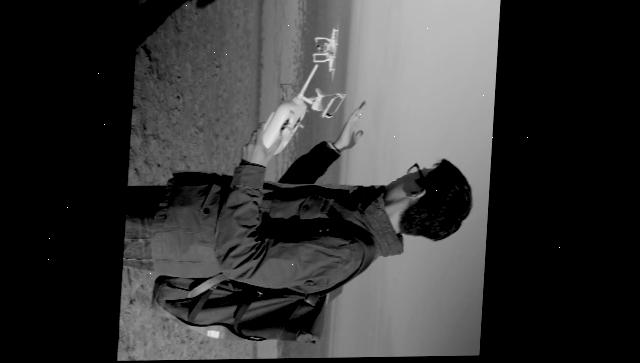drone: (311, 21, 343, 82)
